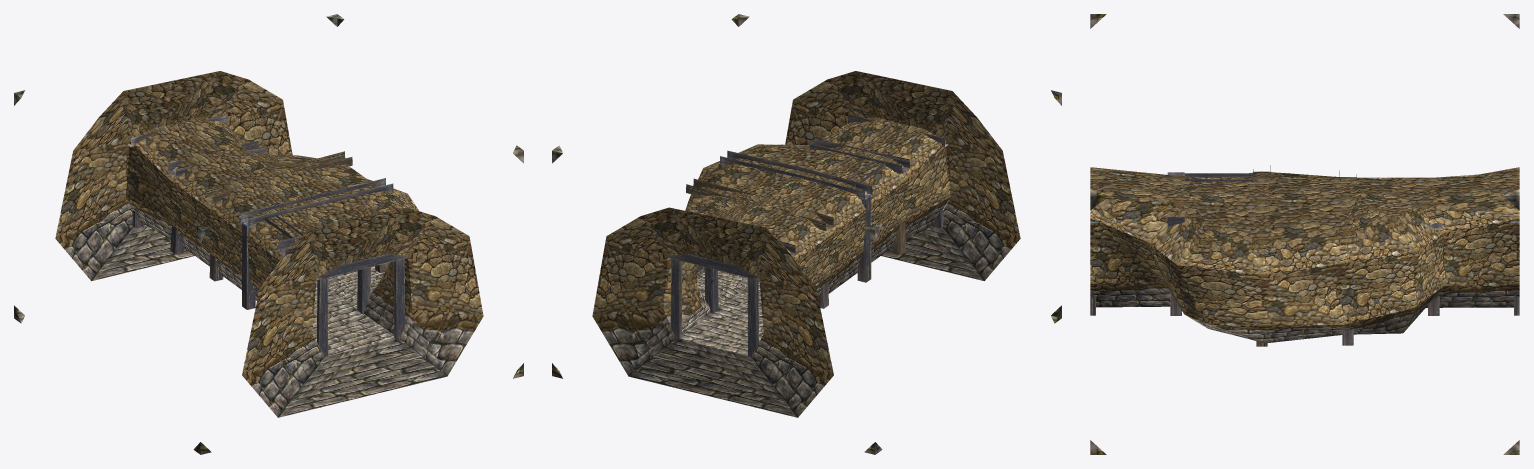
Rendered from Lbm_2e.glb.
The picture shows the model from 3 angles, left to right: view 1: azimuth 30°, elevation 25°; view 2: azimuth 150°, elevation 25°; view 3: azimuth 270°, elevation 25°; orthographic projection. The views are drawn at different scales.
Visible parts, largest first — view 1: Lbm_2e; view 2: Lbm_2e; view 3: Lbm_2e.
Part boxes in pixels (left/top/right/bottom): Lbm_2e: left=14, top=14, right=523, bottom=454; Lbm_2e: left=552, top=14, right=1061, bottom=454; Lbm_2e: left=1090, top=14, right=1519, bottom=454.
Size of the model in its own units: 15 by 10 by 15.
6 materials, 6 textured.
